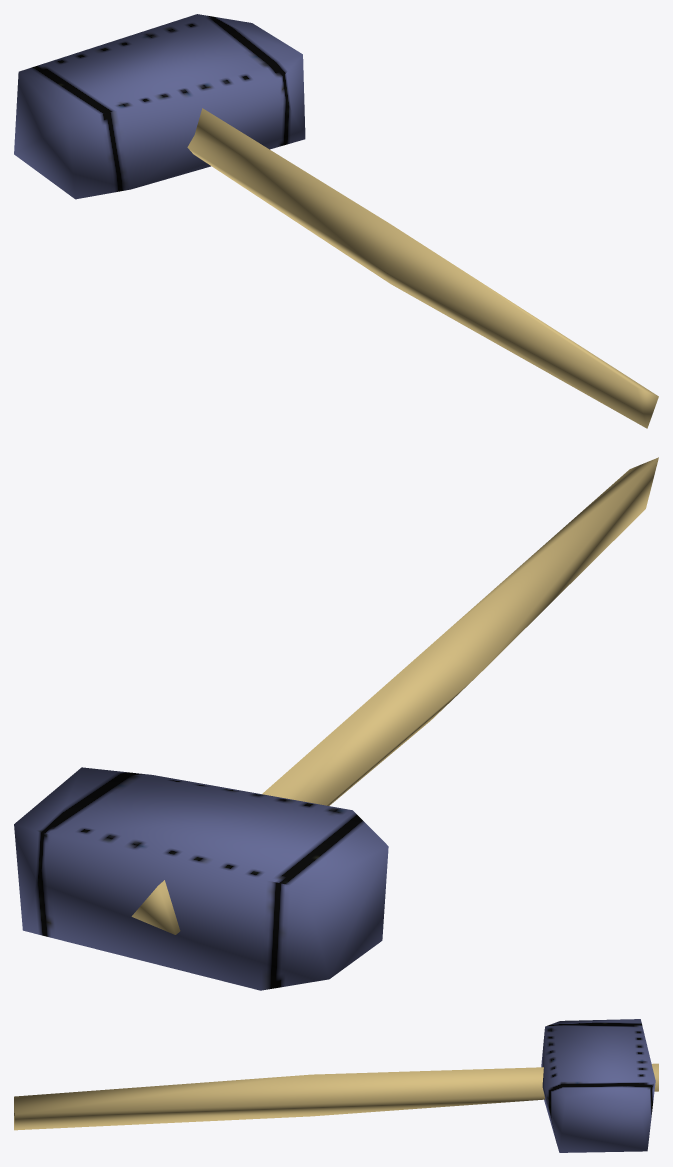
File: Molot_lod1.fbx
3 renders of one model, top to bottom at view 1: azimuth 30°, elevation 25°; view 2: azimuth 150°, elevation 25°; view 3: azimuth 270°, elevation 25°, orthographic. The views are drawn at different scales.
Parts seen in each view (by area): view 1: Цилиндр.001; view 2: Цилиндр.001; view 3: Цилиндр.001.
Boxes of the visible parts, x1,y1,x2,y2 form: Цилиндр.001: (14, 14, 658, 428); Цилиндр.001: (14, 457, 658, 990); Цилиндр.001: (14, 1019, 658, 1152).
Size of the model in its own units: 15.35 by 50.38 by 5.3.
